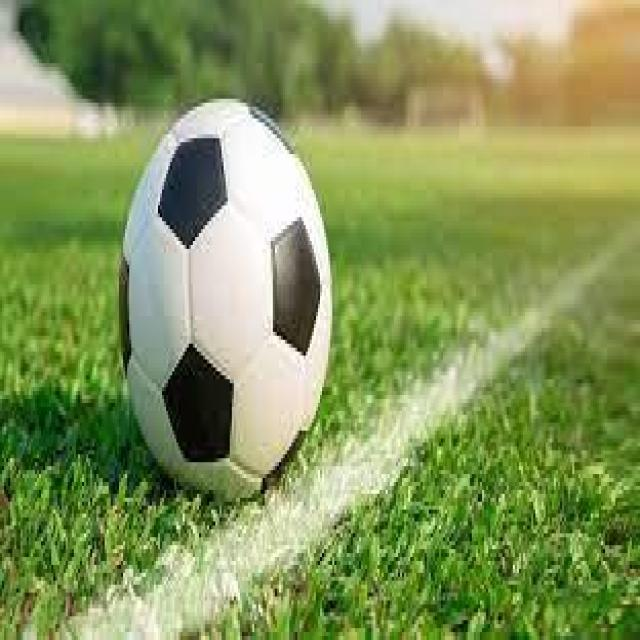Soccer Ball: (121, 107, 332, 506)
